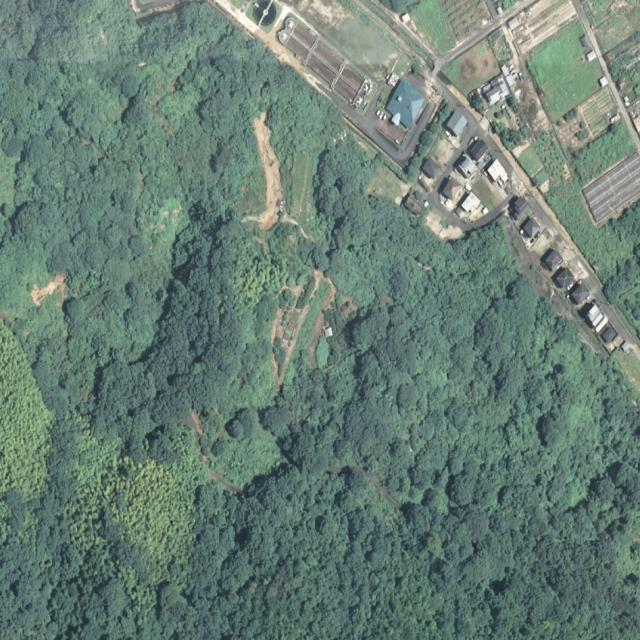landslide: (242, 111, 283, 231)
